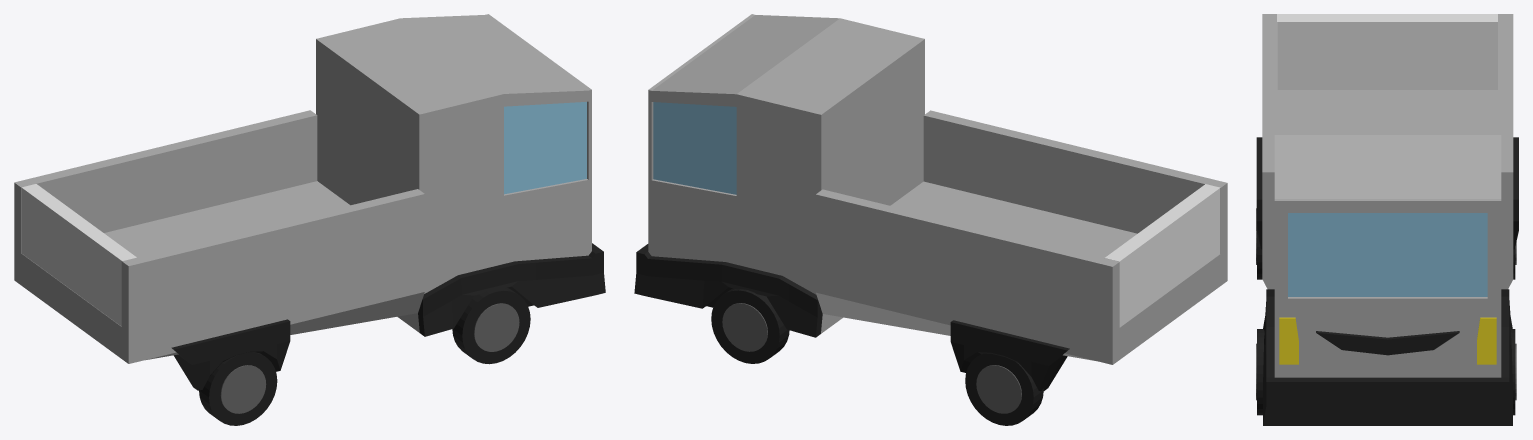
Rendered from Vehicule.fbx.
3 renders of one model, left to right at view 1: azimuth 30°, elevation 25°; view 2: azimuth 150°, elevation 25°; view 3: azimuth 270°, elevation 25°, orthographic. The views are drawn at different scales.
Parts seen in each view (by area): view 1: Cube, Cube.001, Cylinder.003, Cylinder.002; view 2: Cube, Cube.001, Cylinder, Cylinder.001; view 3: Cube, Cube.001, Cylinder.003, Cylinder, Cylinder.002.
Part boxes in pixels (left/top/right/bottom): Cube: left=14, top=14, right=605, bottom=390; Cube.001: left=21, top=184, right=136, bottom=326; Cylinder.003: left=452, top=287, right=530, bottom=364; Cylinder.002: left=199, top=352, right=277, bottom=425; Cube: left=634, top=14, right=1227, bottom=391; Cube.001: left=1105, top=184, right=1220, bottom=326; Cylinder: left=711, top=288, right=789, bottom=363; Cylinder.001: left=965, top=353, right=1043, bottom=425; Cube: left=1256, top=14, right=1518, bottom=425; Cube.001: left=1277, top=14, right=1497, bottom=89; Cylinder.003: left=1256, top=329, right=1264, bottom=415; Cylinder: left=1511, top=329, right=1516, bottom=415; Cylinder.002: left=1256, top=208, right=1262, bottom=279.
Size of the model in its own units: 548 by 285 by 239.
Materials: 1 (1 with a texture image).
